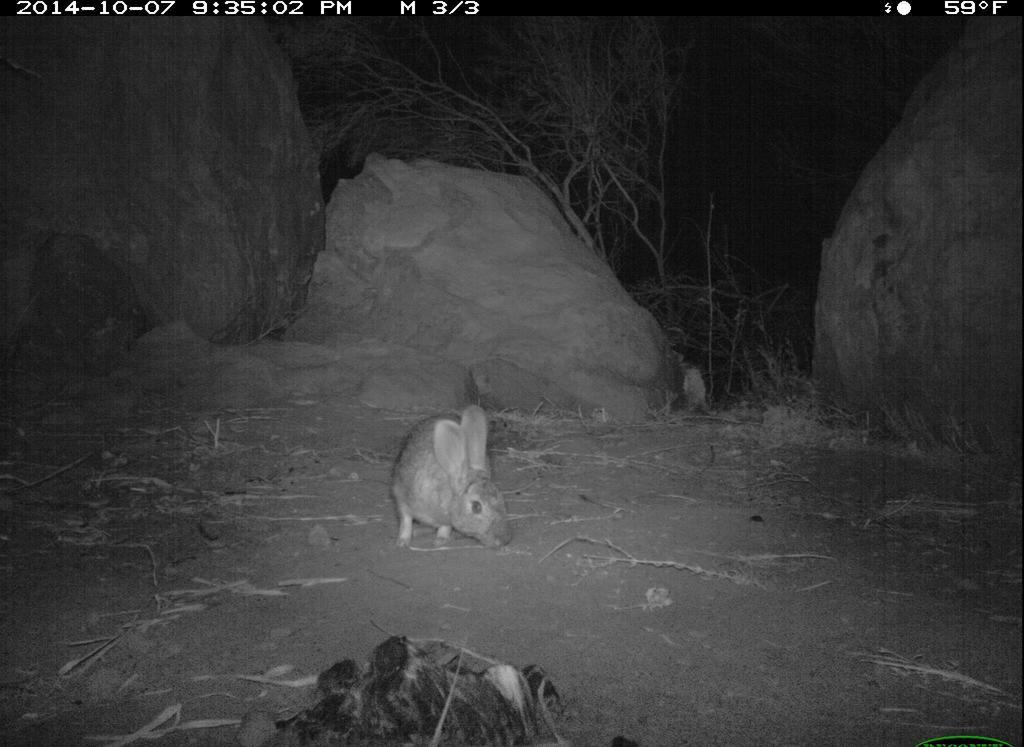rabbit: (385, 397, 521, 565)
